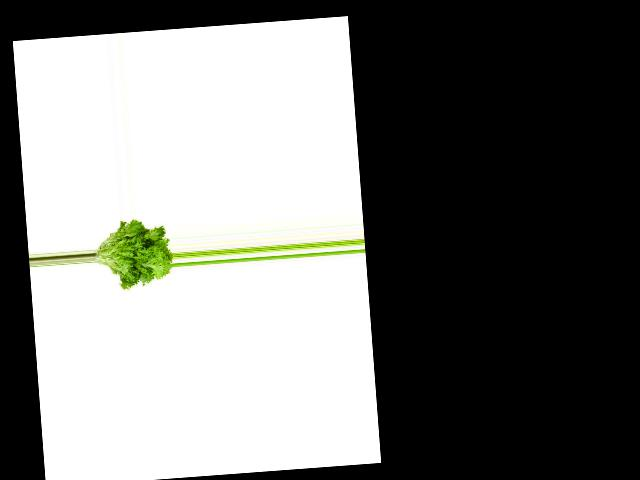lettuce: (91, 213, 174, 292)
